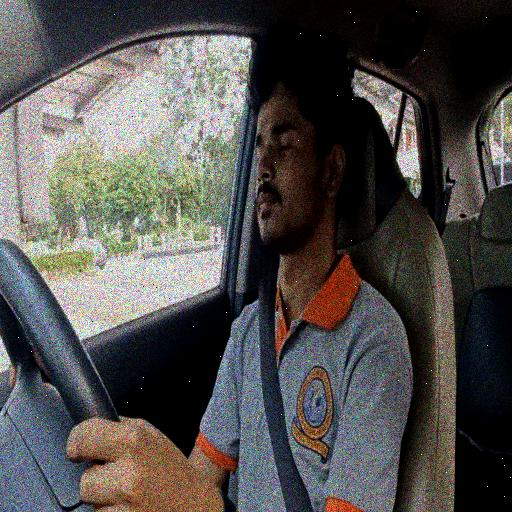Closed Eye: (238, 30, 388, 436)
